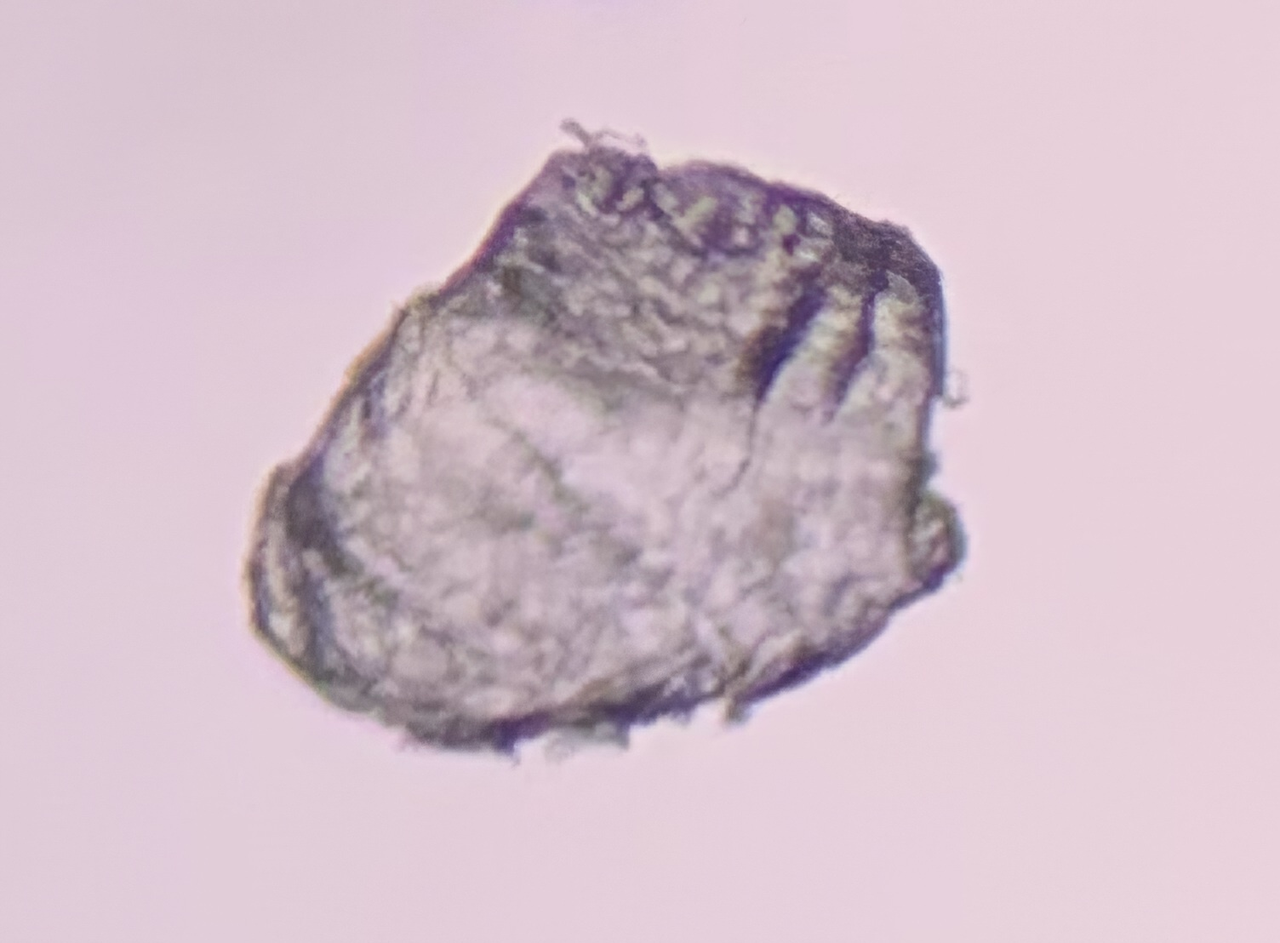microplastic: (236, 117, 980, 775)
